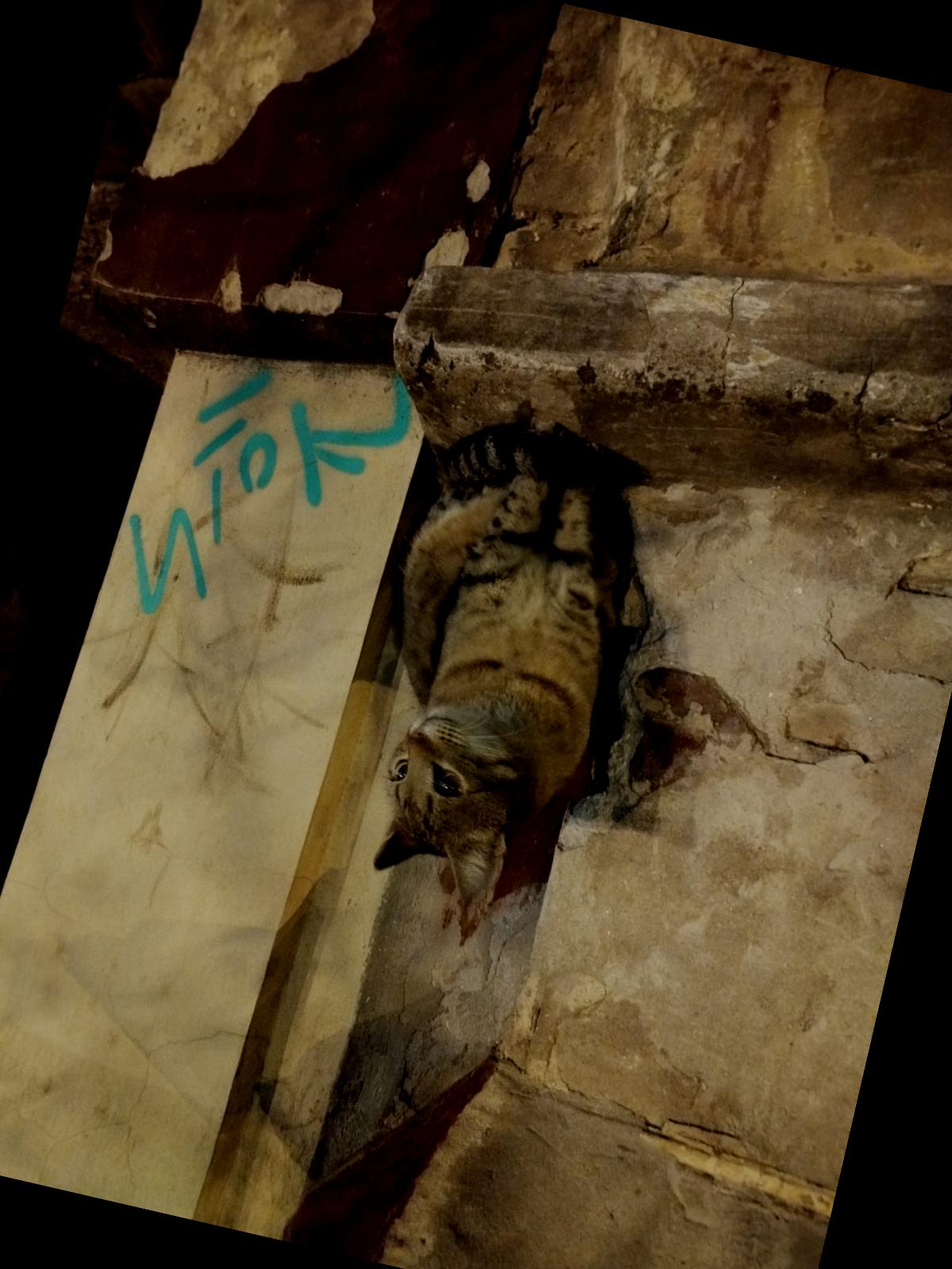macka: (328, 406, 658, 928)
